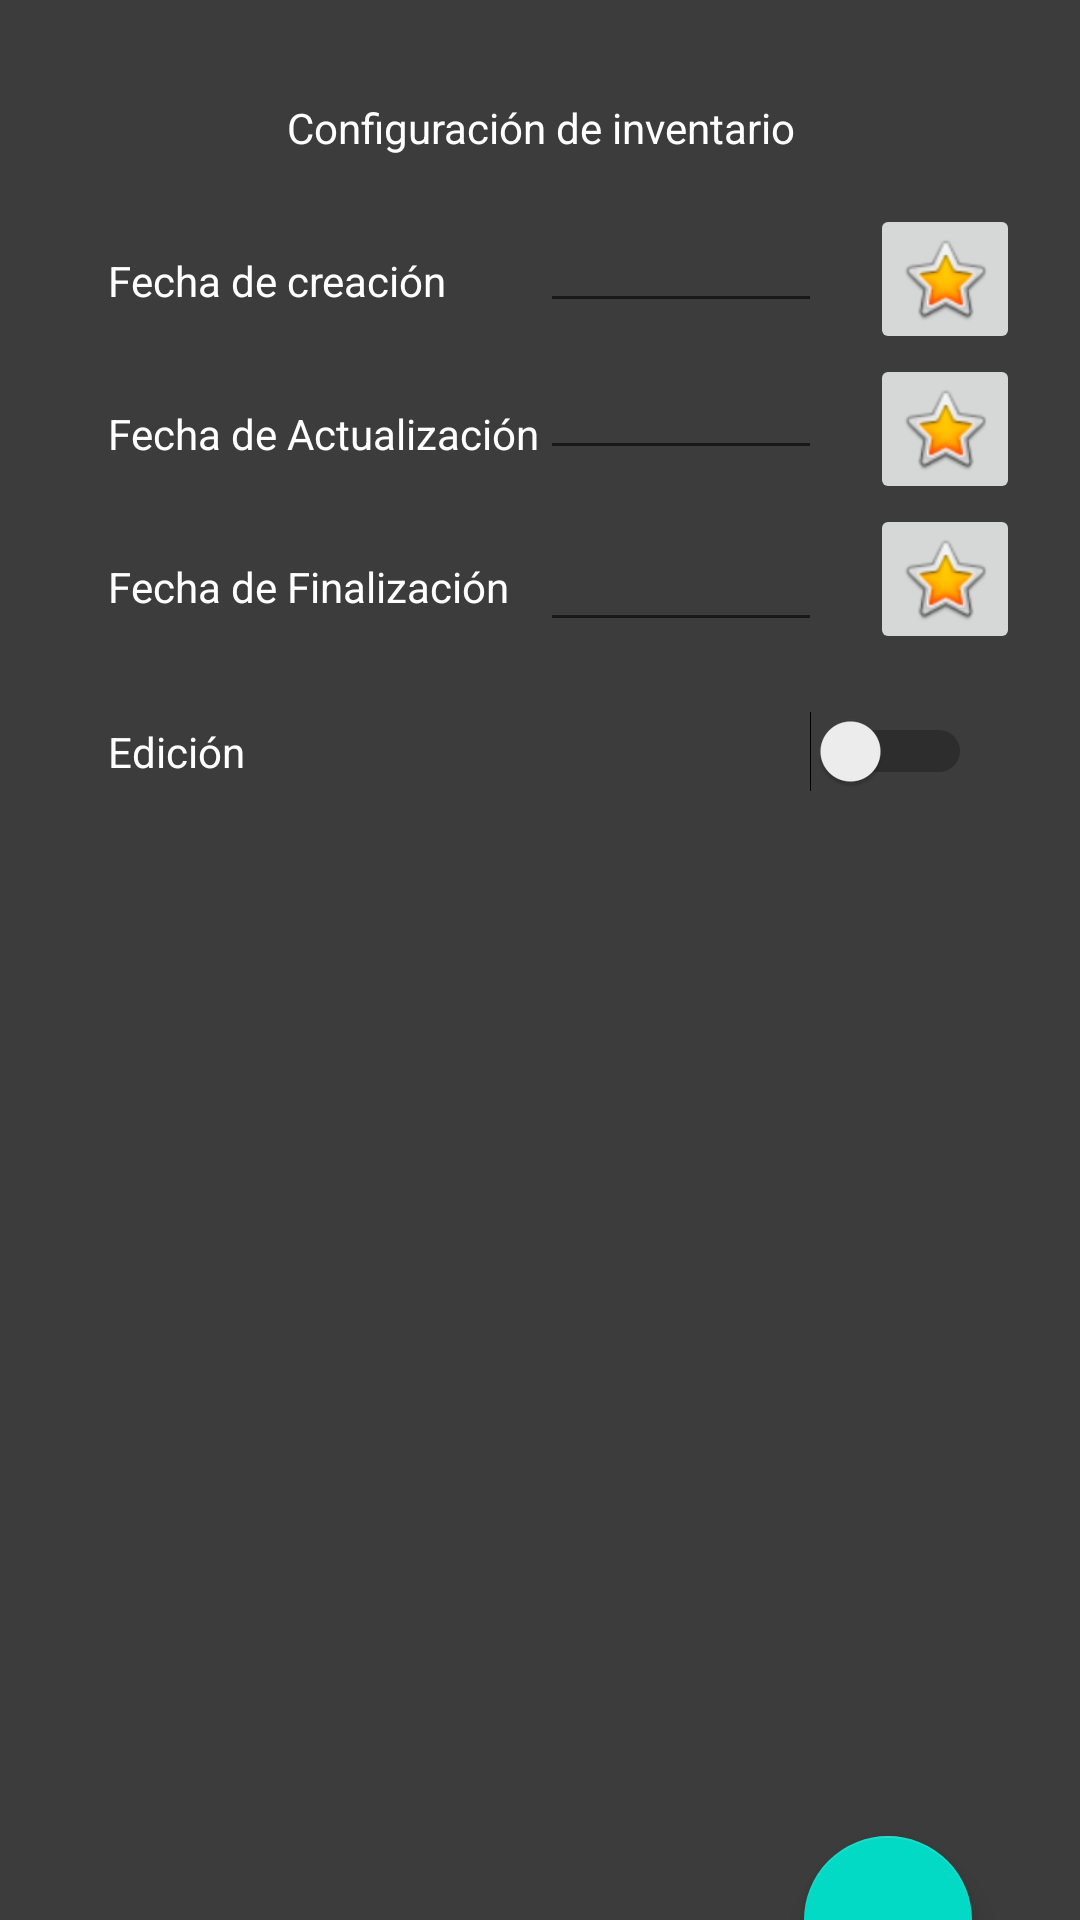

Icons on this 1080x1920 Android screen, each with its box as (x1, y1, x2, y2):
star on: (882, 222, 1008, 336), (882, 372, 1008, 486), (882, 522, 1008, 636)
